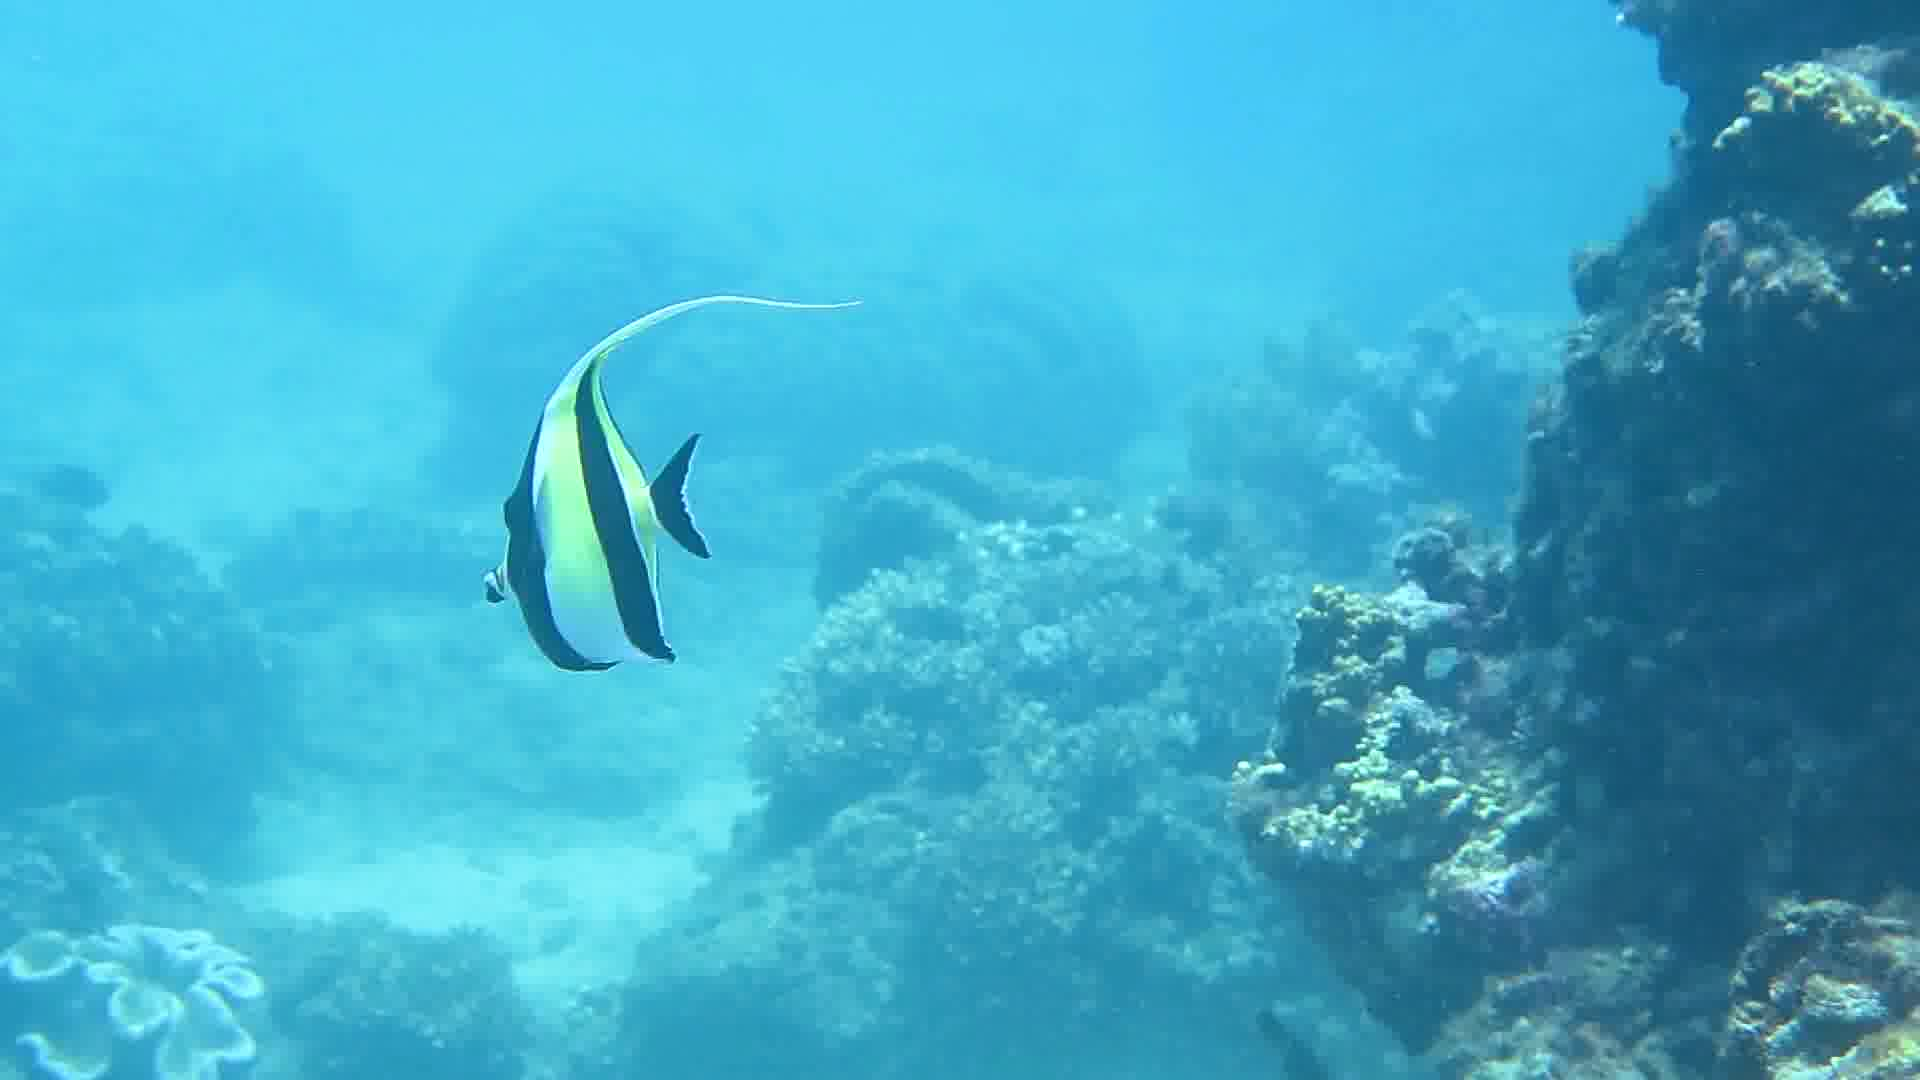Zanclus cornutus: (433, 299, 789, 719)
